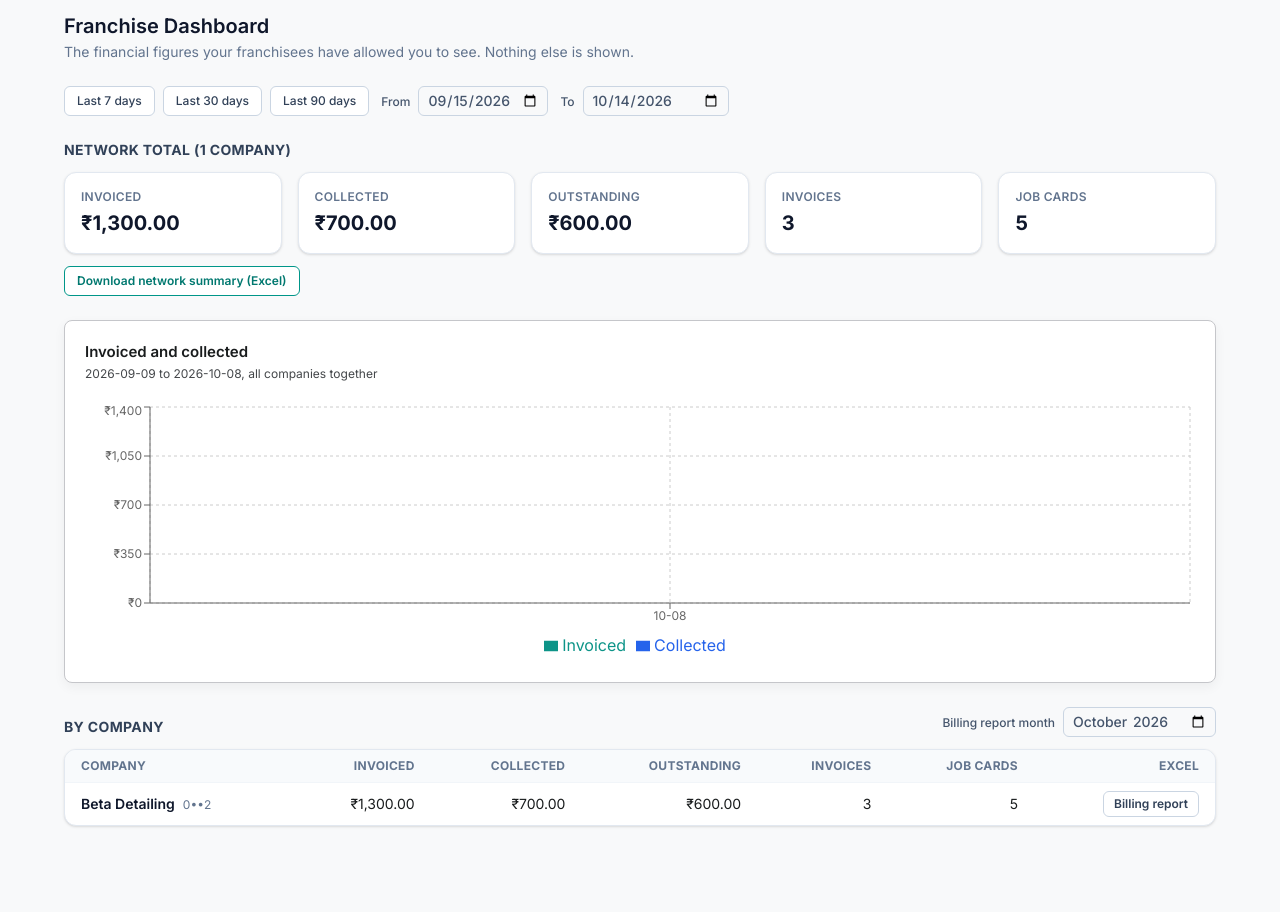
Scenario: FranchiseDashboardPage › Excel downloads › shows the reason when the server refuses the billing report
Click the button "Billing report".
click(1151, 804)  # box x1=1103 y1=790 x2=1199 y2=816
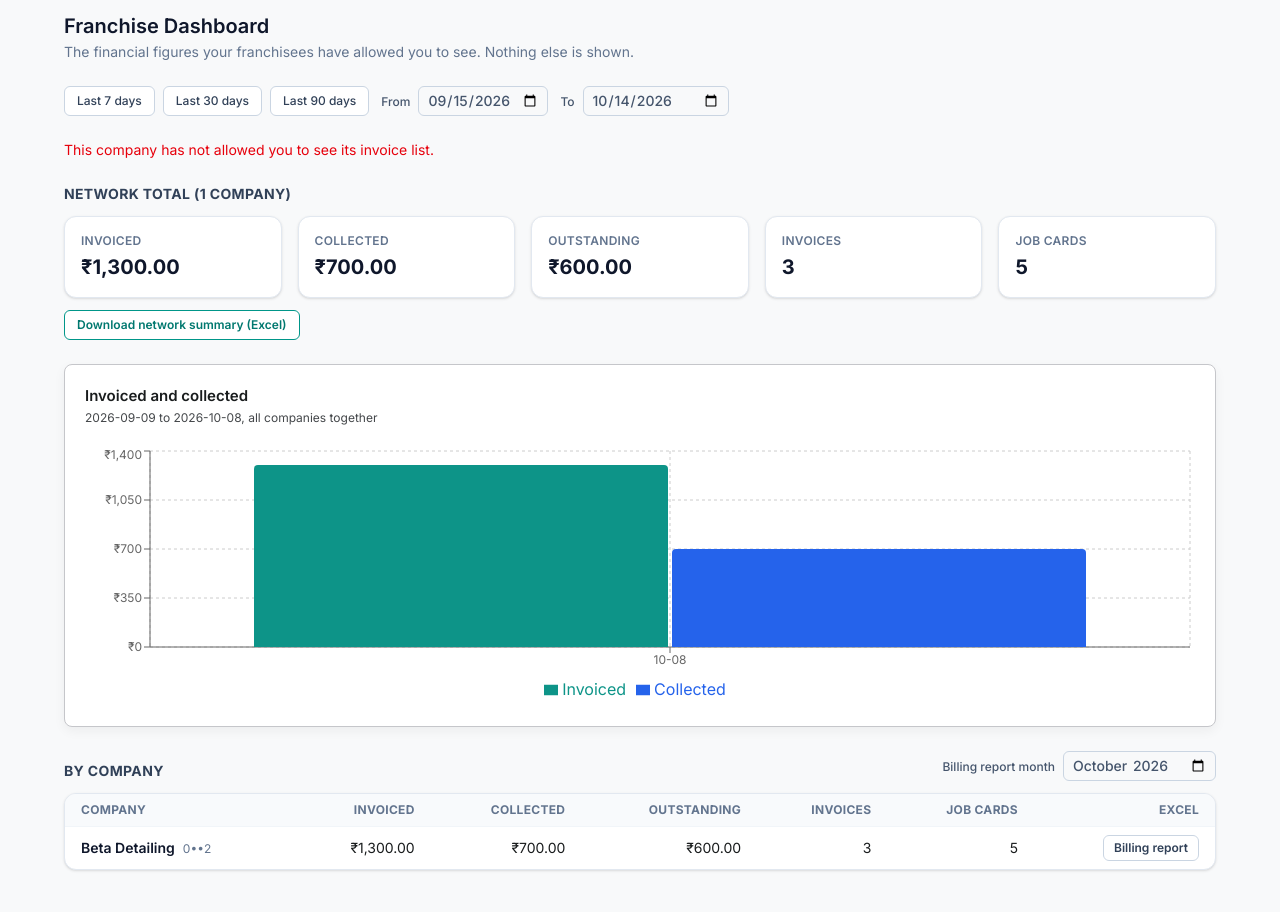
Check: the message shows "has not allowed you to see its invoice list", box x1=64 y1=141 x2=434 y2=158
